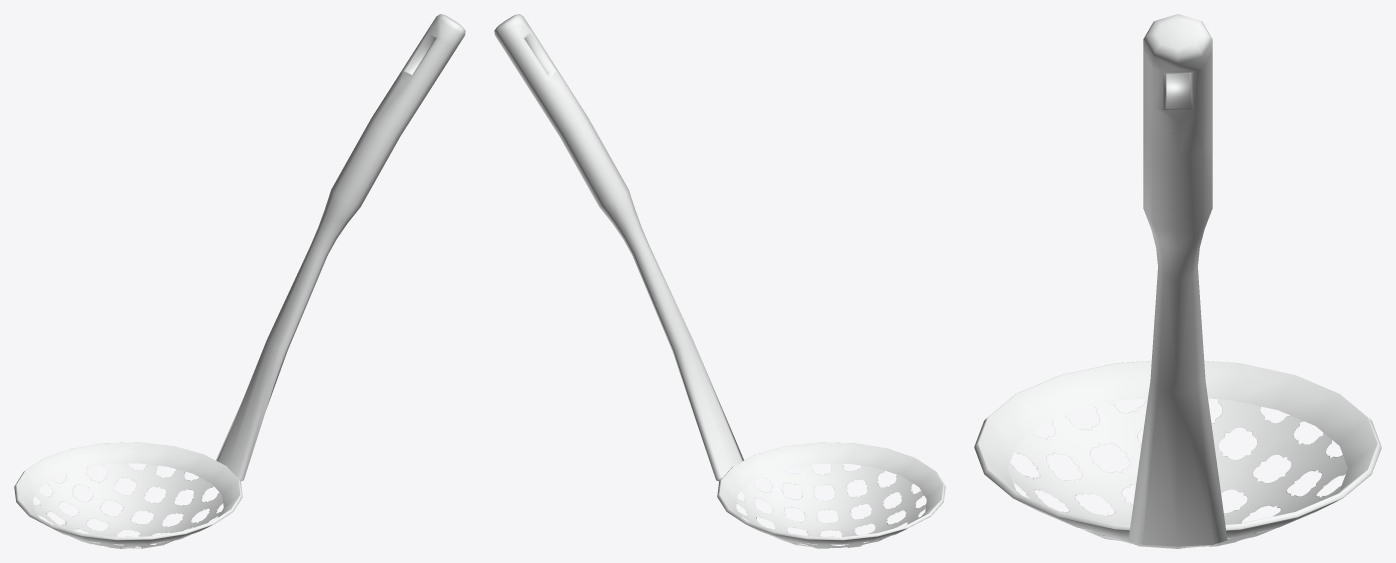
File: Slotted Spoon.fbx
3 views of the same model, side by side, from view 1: azimuth 30°, elevation 25°; view 2: azimuth 150°, elevation 25°; view 3: azimuth 270°, elevation 25° (orthographic). The views are drawn at different scales.
Visible parts, largest first — view 1: Slotted Spoon; view 2: Slotted Spoon; view 3: Slotted Spoon.
Part boxes in pixels (bbox=[...]): Slotted Spoon: bbox=[14, 14, 465, 548]; Slotted Spoon: bbox=[494, 14, 945, 548]; Slotted Spoon: bbox=[974, 14, 1381, 548].
Size of the model in its own units: 27.84 by 27.11 by 12.79.
Materials: 2 (2 with a texture image).
